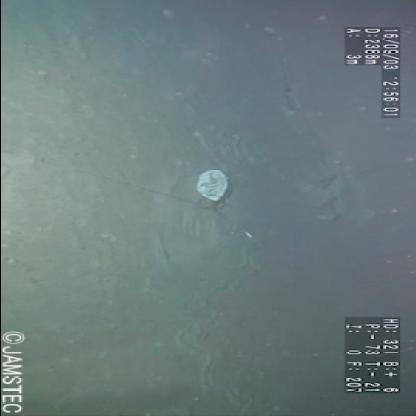Rác: (188, 164, 240, 210)
